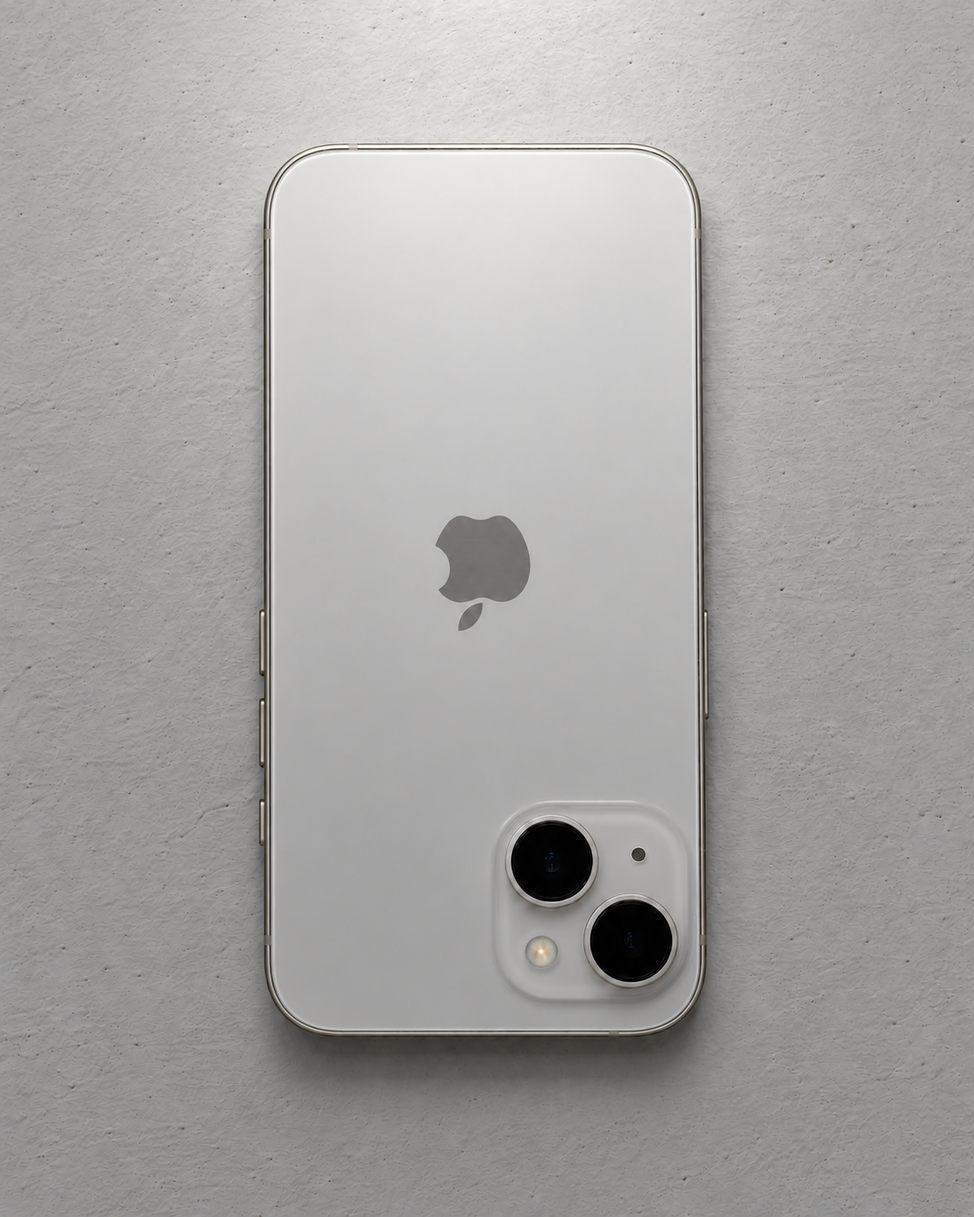iphone_14_white: (183, 66, 793, 1079), (500, 806, 695, 1012)
